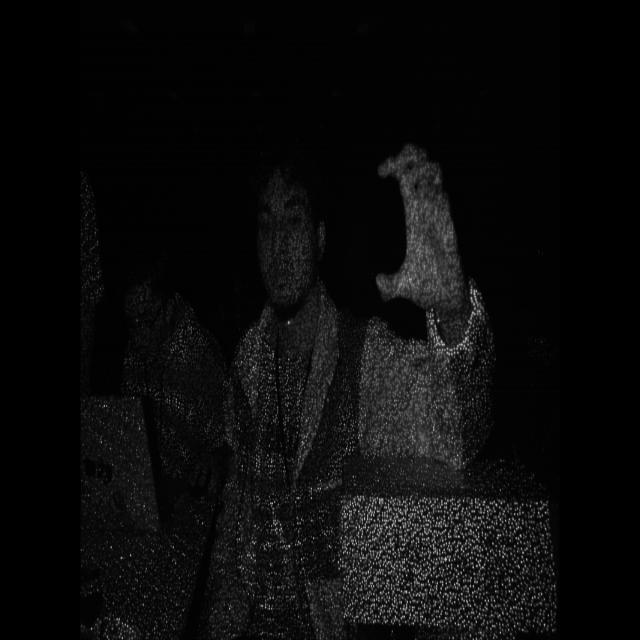C: (372, 132, 486, 332)
